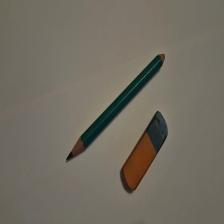eraser: (121, 111, 169, 193)
pencil: (67, 54, 166, 162)
